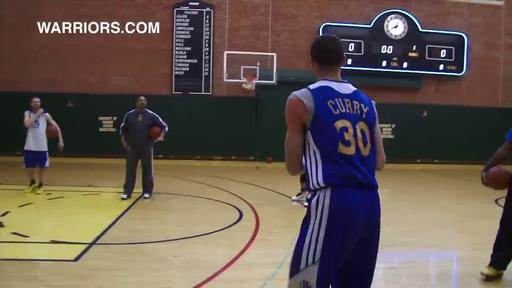ball: (486, 166, 510, 190), (243, 74, 258, 90), (150, 127, 164, 140), (46, 124, 58, 138), (266, 156, 274, 164)
human: (284, 36, 386, 288), (119, 96, 168, 200), (481, 127, 512, 279), (22, 97, 64, 195)
